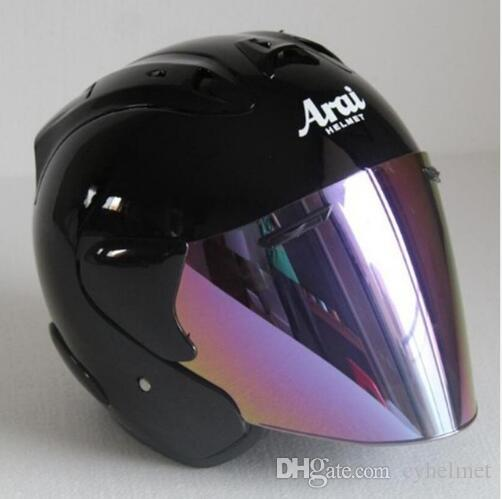with_helmet: (27, 23, 488, 470)
